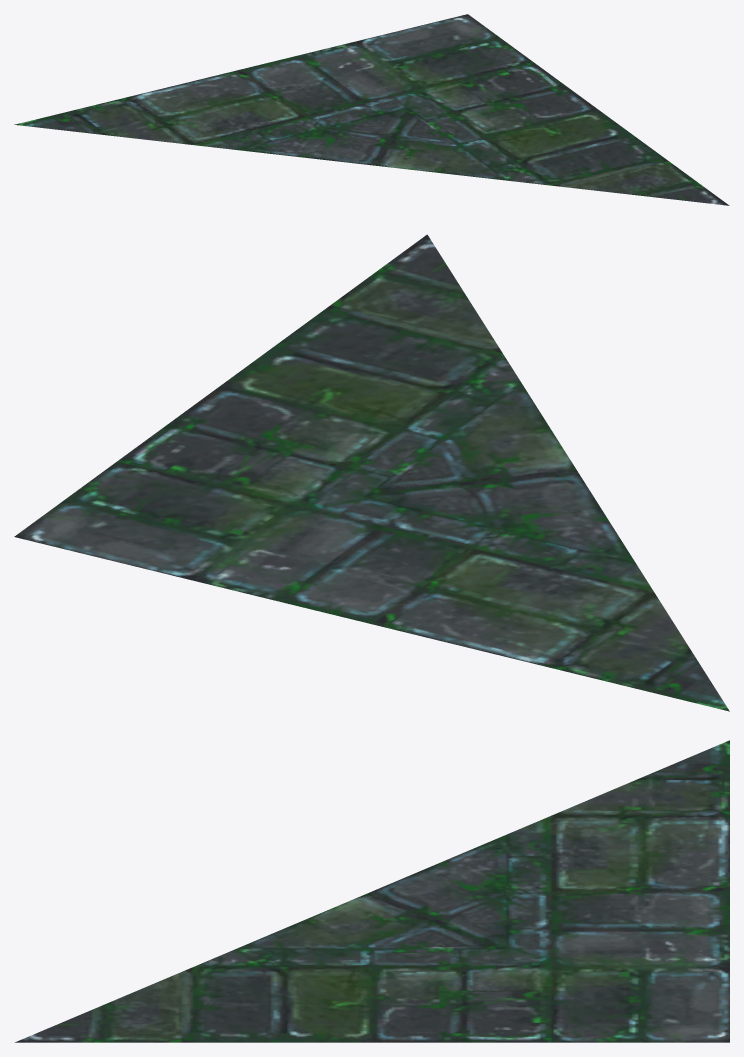
Rendered from stemple_floor_diagonal_02.fbx.
The picture shows the model from 3 angles, top to bottom: view 1: azimuth 30°, elevation 25°; view 2: azimuth 150°, elevation 25°; view 3: azimuth 270°, elevation 25°; orthographic projection. The views are drawn at different scales.
Visible parts, largest first — view 1: sunken_tileset/sunken_floor01_mat_shadow; view 2: sunken_tileset/sunken_floor01_mat_shadow; view 3: sunken_tileset/sunken_floor01_mat_shadow.
Part boxes in pixels (left/top/right/bottom): sunken_tileset/sunken_floor01_mat_shadow: left=14, top=14, right=729, bottom=205; sunken_tileset/sunken_floor01_mat_shadow: left=14, top=234, right=729, bottom=711; sunken_tileset/sunken_floor01_mat_shadow: left=15, top=740, right=729, bottom=1042.
Size of the model in its own units: 4 by 0 by 4.
